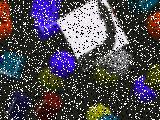Left: (56, 0, 129, 70)
